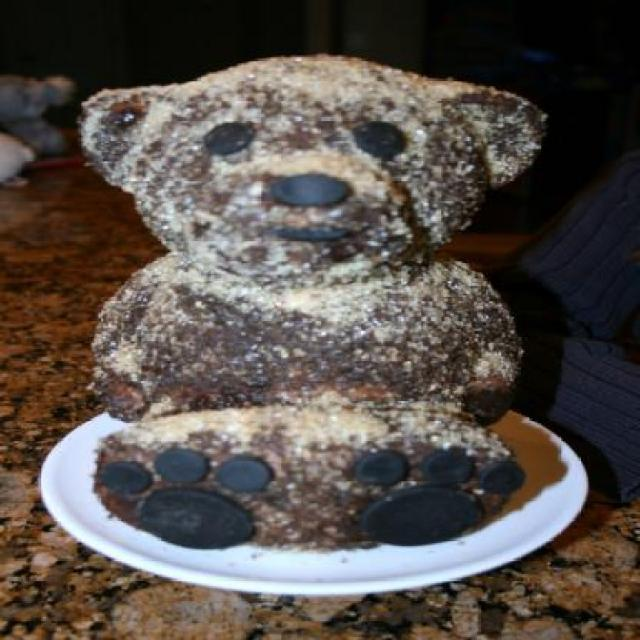Cake: (85, 49, 553, 548)
